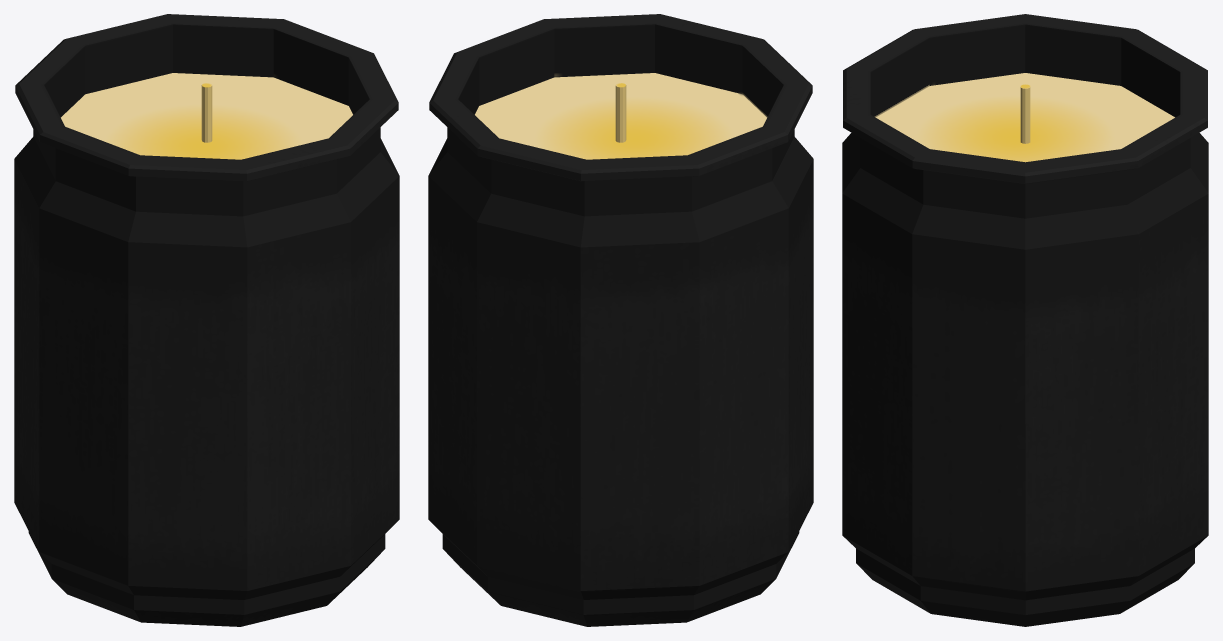
File: Candle4_Model.fbx
The picture shows the model from 3 angles, left to right: view 1: azimuth 30°, elevation 25°; view 2: azimuth 150°, elevation 25°; view 3: azimuth 270°, elevation 25°; orthographic projection.
Parts seen in each view (by area): view 1: Candle4; view 2: Candle4; view 3: Candle4.
Part boxes in pixels (x1,y1,x2,y2): Candle4: [14, 14, 399, 626]; Candle4: [428, 14, 813, 626]; Candle4: [842, 14, 1208, 626].
Bounding box in the file's own units: 9.01 × 12.19 × 8.57.
